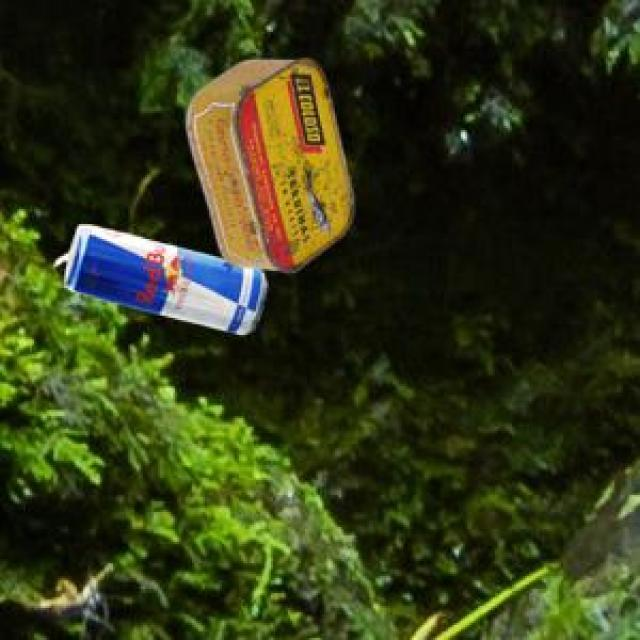Can: (182, 57, 351, 270), (50, 223, 263, 332)
